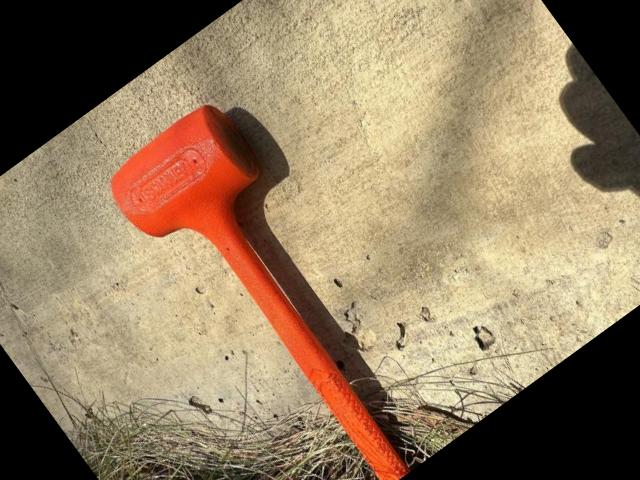hammer: (97, 93, 460, 480)
